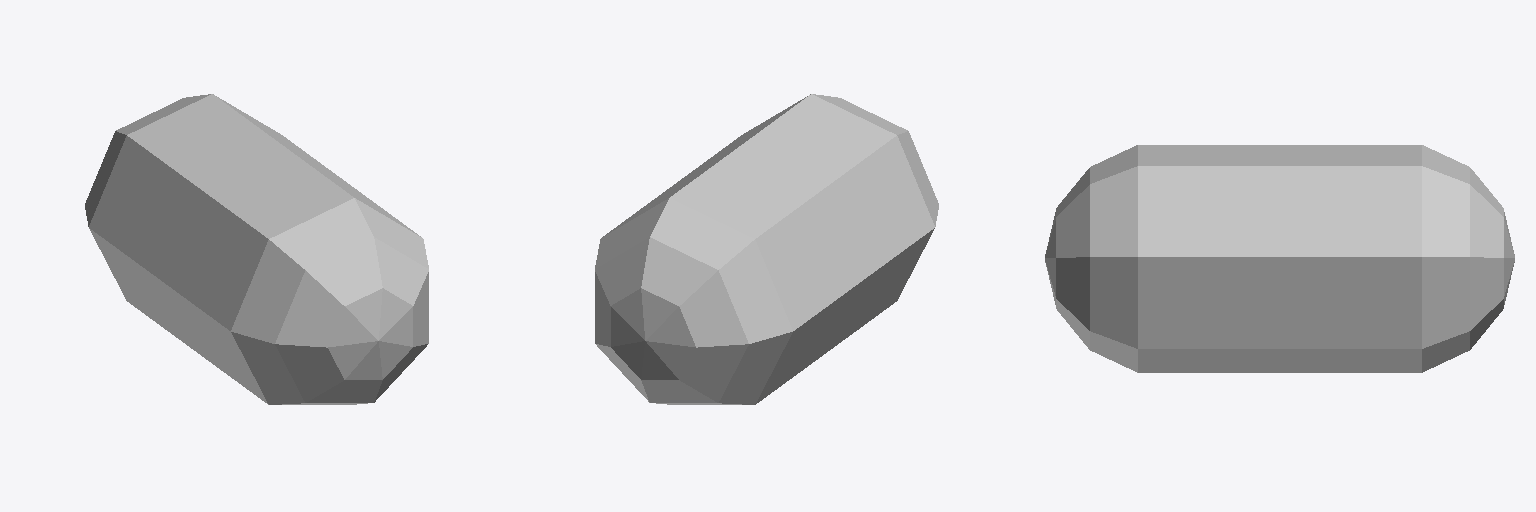
File: capsuleB.obj
The picture shows the model from 3 angles: view 1: azimuth 30°, elevation 25°; view 2: azimuth 150°, elevation 25°; view 3: azimuth 270°, elevation 25°; orthographic projection.
Visible parts, largest first — view 1: capsule; view 2: capsule; view 3: capsule.
Boxes of the visible parts, <box> form: capsule: <box>85,94,428,404</box>; capsule: <box>595,94,938,404</box>; capsule: <box>1045,145,1514,372</box>.
Size of the model in its own units: 0.8507 by 0.8726 by 1.8.